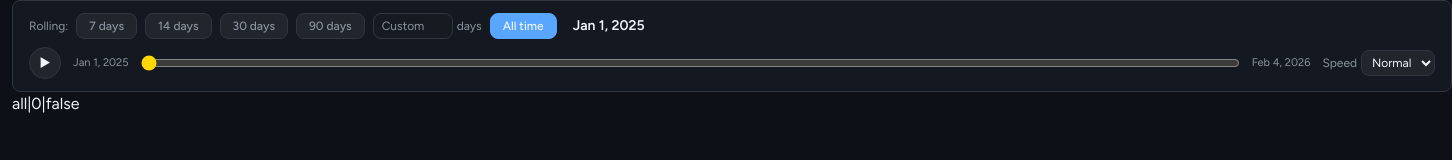
Test: TimelineControls › all time Play still covers the whole range in bigger steps
The image size is (1452, 160).
Click the button named "Play": [45, 63] box [29,47,61,79]
Wait 1500 ms
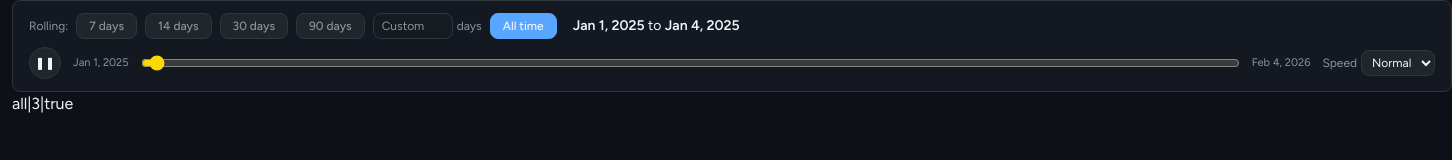
Now the text with test id "state" reads "all|3|true", box [12,94,73,113]
